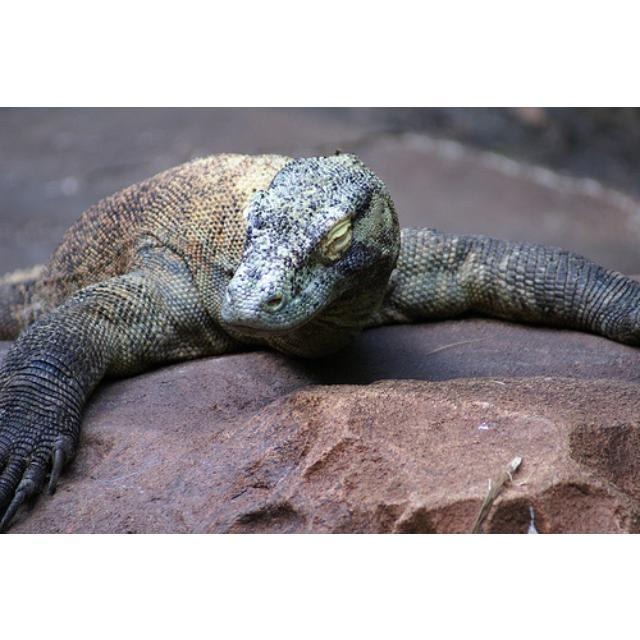KomodoDragon: (2, 107, 636, 530)
